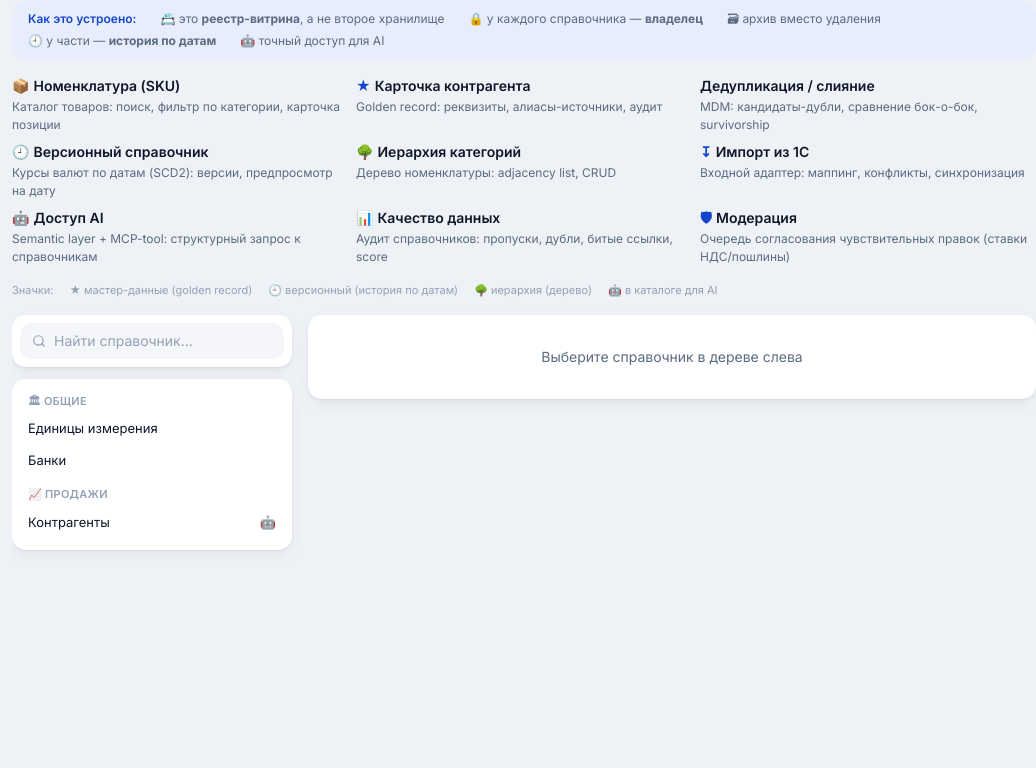
Test case: SpravCatalog › клик по crud-справочнику в дереве тянет строки через /api-прокси и рендерит их
The image size is (1036, 768).
Expected: the text "Выберите справочник в дереве слева" is shown, [541,348,803,364]
Click the button "Банки" at (47, 460), box [20,444,284,476]
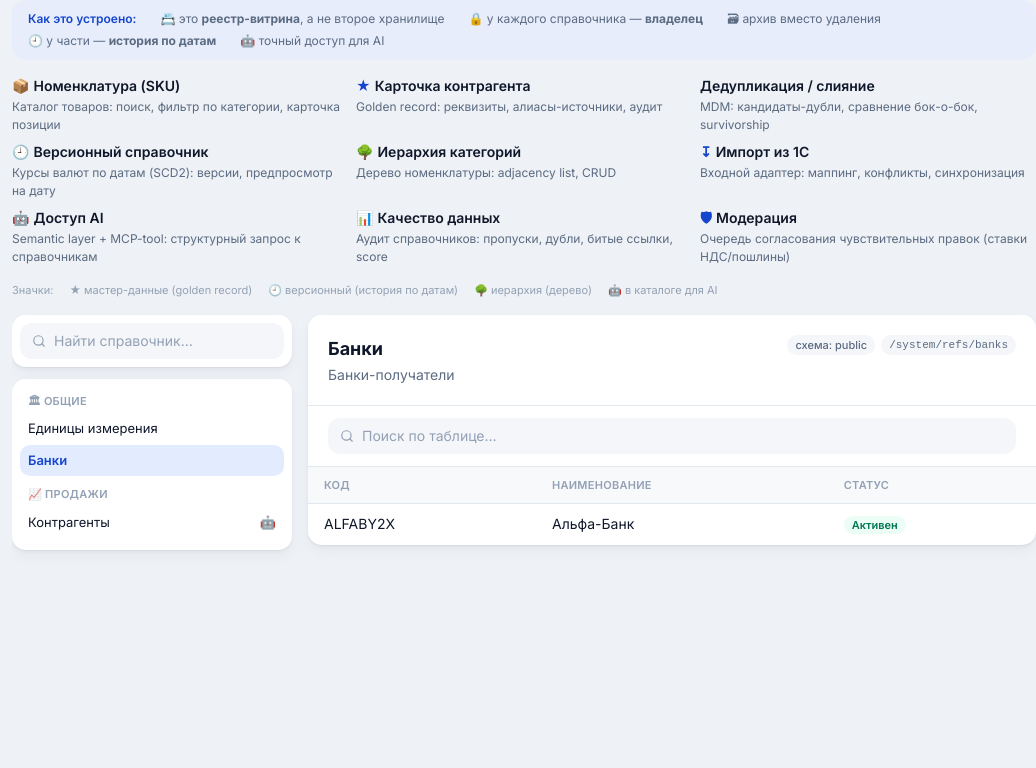
Expected: the text "Альфа-Банк" is shown, [536,503,828,544]
Expected: the heading "Банки" is shown, [328,338,383,358]
